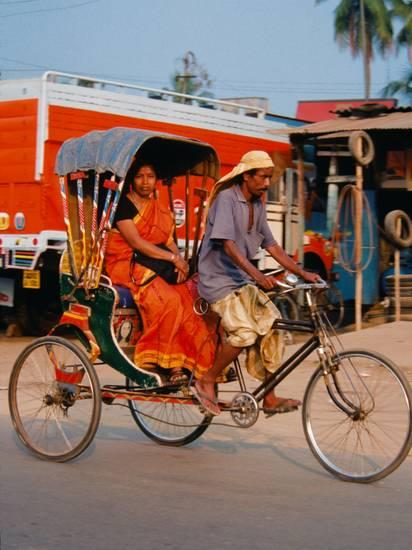Rickshaw: (19, 125, 408, 483)
